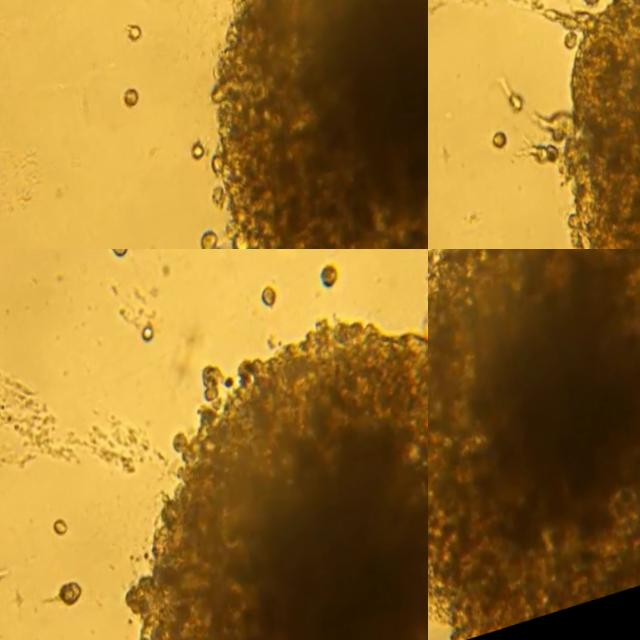cell: (47, 586, 85, 609), (319, 274, 339, 299), (260, 295, 278, 312), (126, 92, 142, 111), (54, 522, 69, 541), (512, 94, 526, 112), (142, 329, 154, 348), (493, 137, 509, 151), (110, 249, 126, 263), (130, 28, 147, 41), (195, 148, 208, 163), (585, 0, 600, 9)
tumor_mass: (128, 324, 428, 640), (428, 249, 640, 640)
